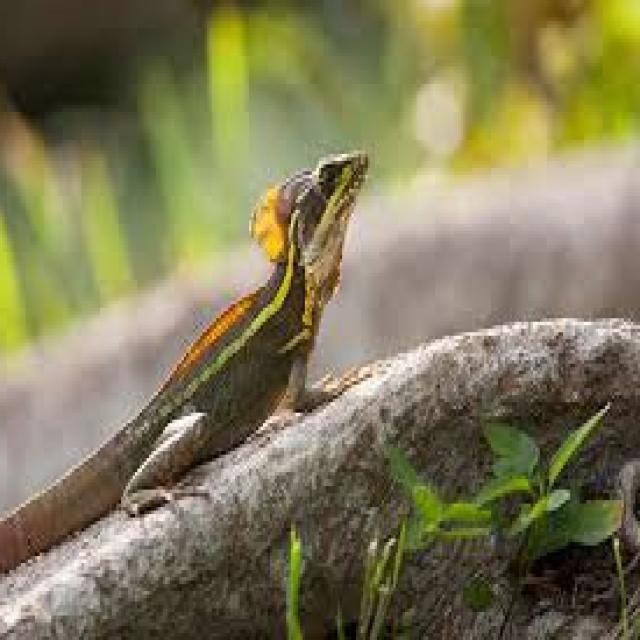lizard: (2, 150, 368, 570)
